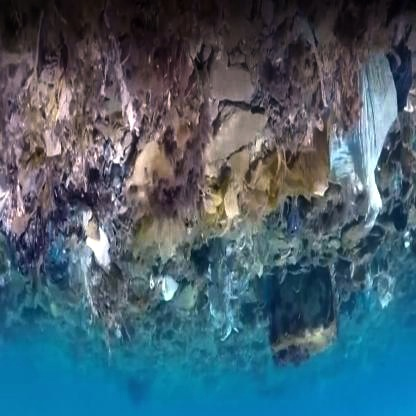plastic: (175, 196, 252, 376), (338, 40, 403, 206)
